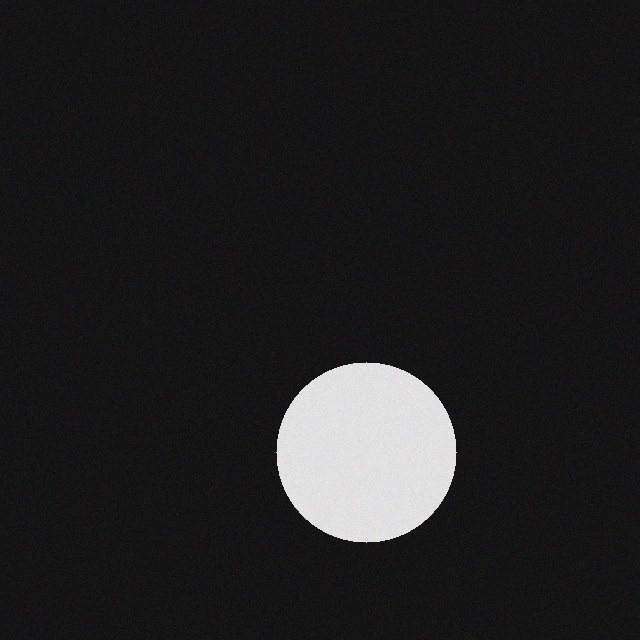circle: (267, 370, 447, 550)
